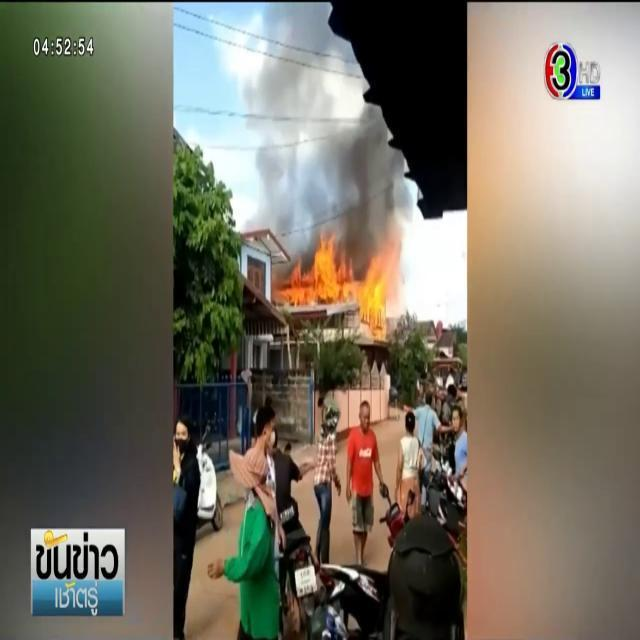Fire: (270, 238, 406, 328)
Smoke: (245, 115, 393, 239)
